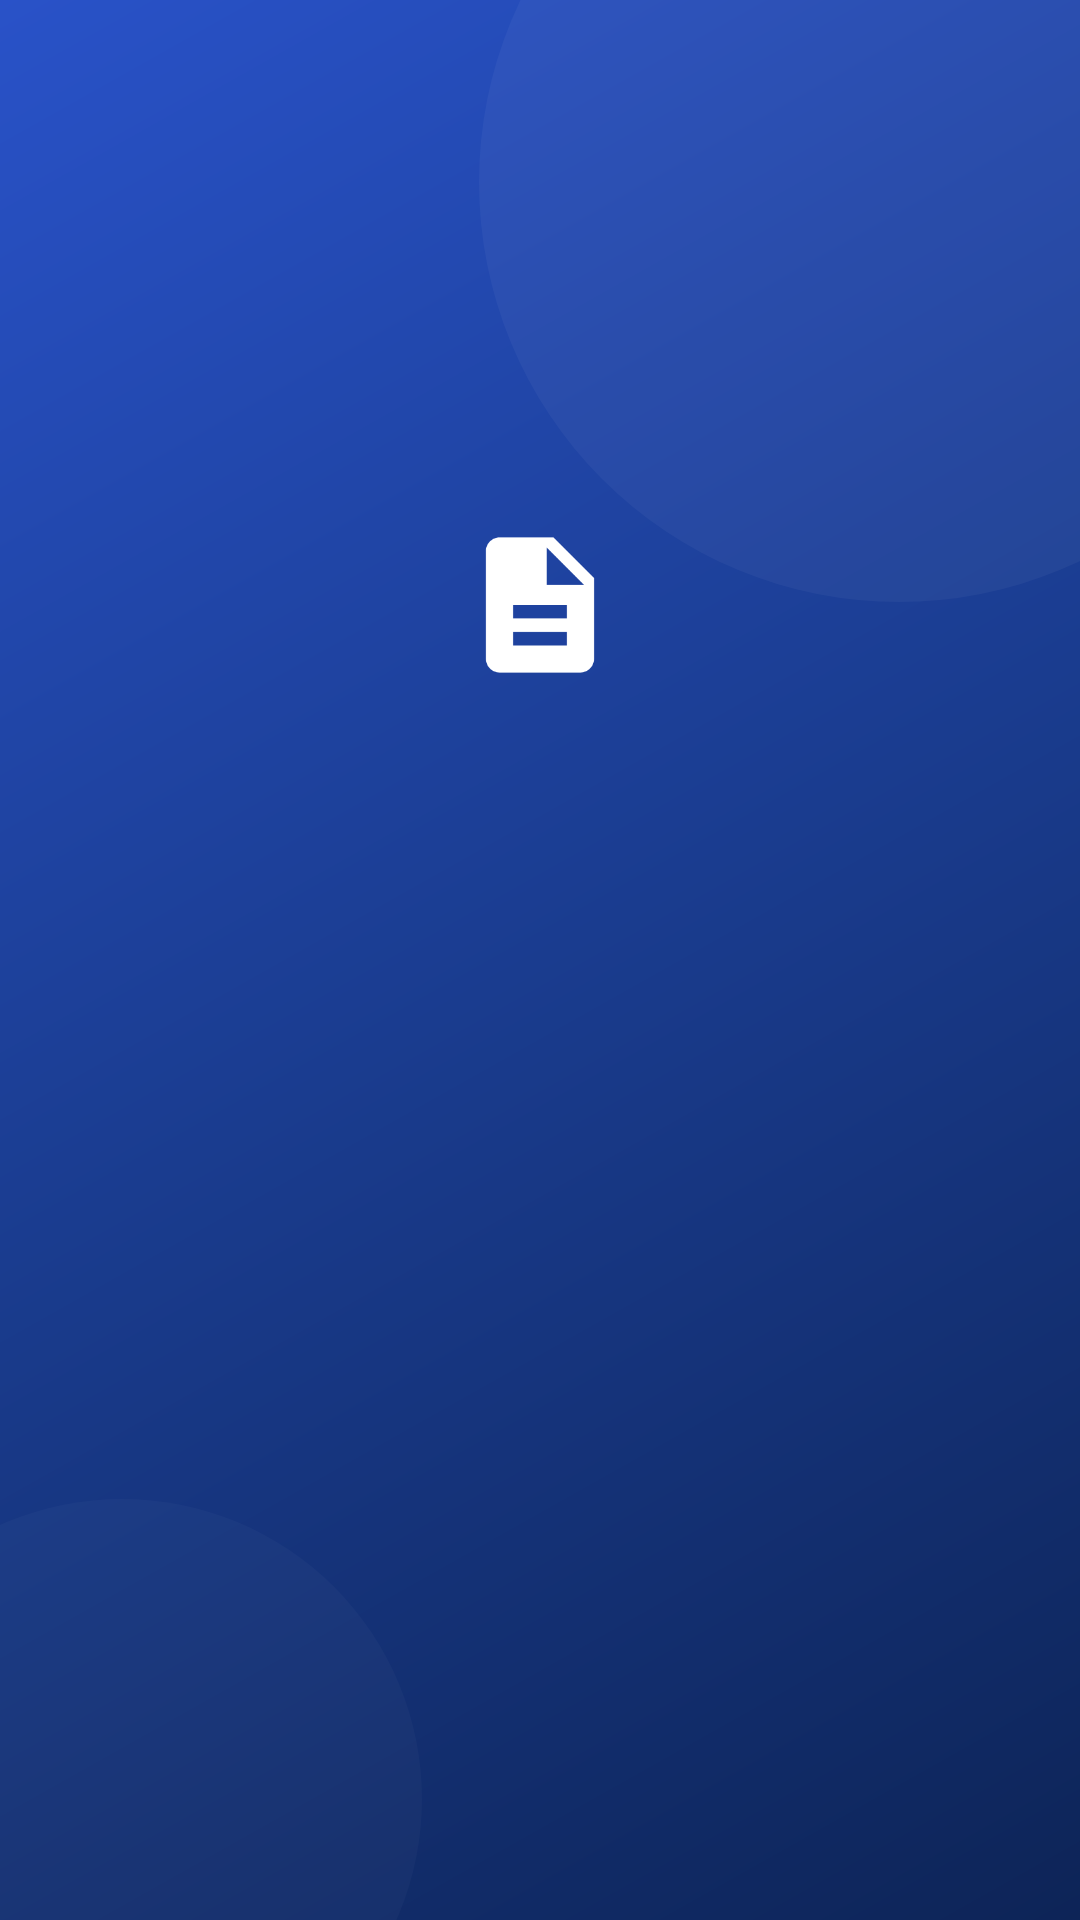

Icon click points for this 1080 × 1920 phone screenshot, format (x,y):
document: (540,605)
